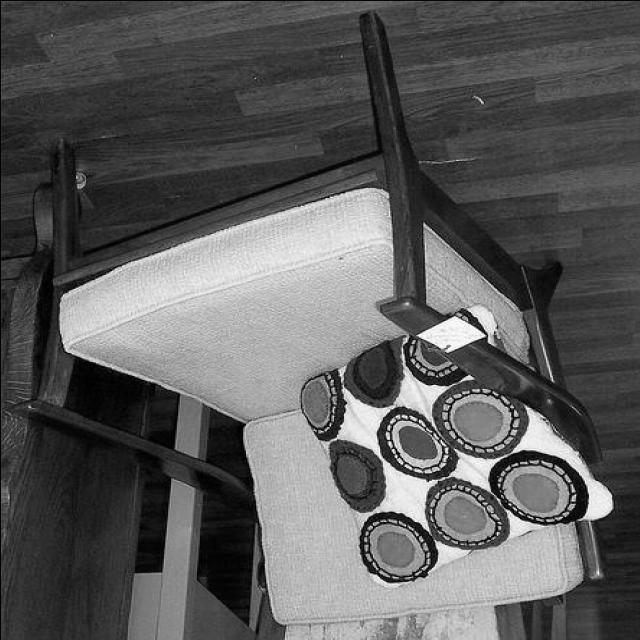chair: (11, 11, 604, 628)
